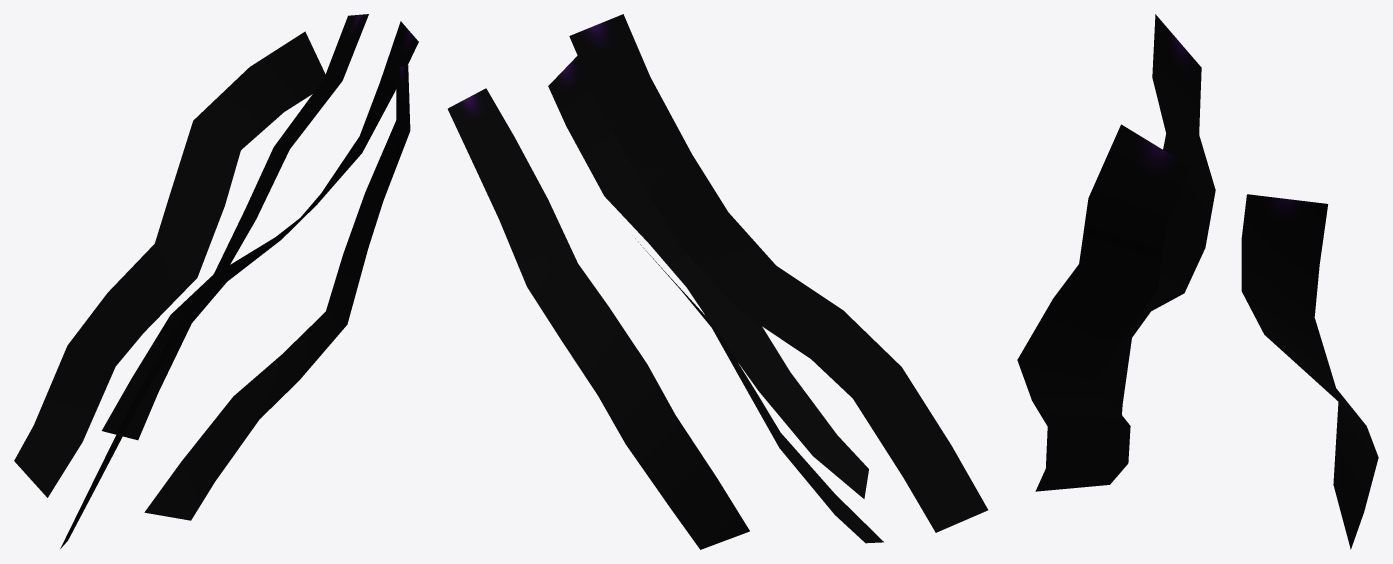
File: fx_fbx_skill_103_bow_skill_2_02.FBX
The picture shows the model from 3 angles, left to right: view 1: azimuth 30°, elevation 25°; view 2: azimuth 150°, elevation 25°; view 3: azimuth 270°, elevation 25°; orthographic projection. The views are drawn at different scales.
Visible parts, largest first — view 1: Plane005; view 2: Plane005; view 3: Plane005.
Part boxes in pixels (x1,y1,x2,y2): Plane005: (14,14,418,548); Plane005: (448,14,987,549); Plane005: (1017,14,1378,549).
Bounding box in the file's own units: 554 × 275 × 542.
Materials: 1 (1 with a texture image).
